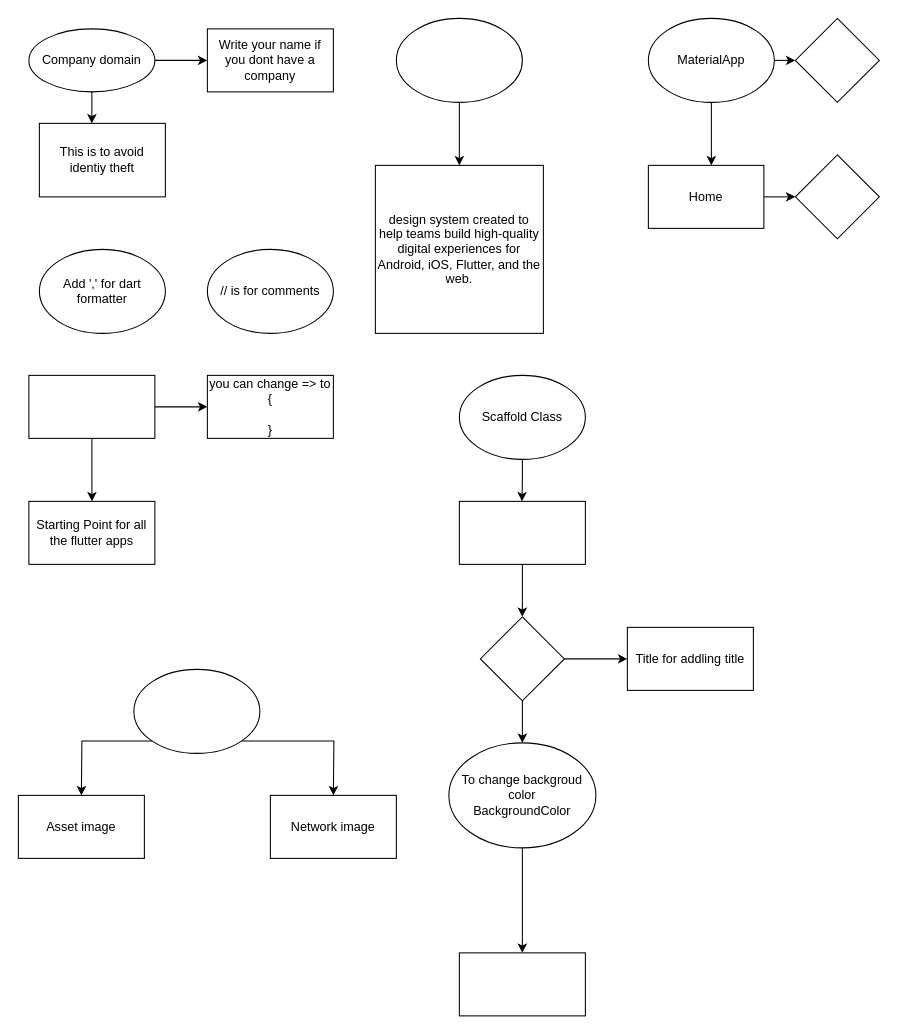
The diagram is 898 pixels wide and 1034 high, and some of its shapes have lost their labels. The centre of each missing label's shape, as x and y in pixels:
AppBar: [521,658]
Colors.red: [521,984]
First Widget: [836,59]
Image Class: [196,710]
It can have floating action button, AppBar, drawer: [521,532]
Material Design: [458,59]
Most important: [836,196]
void main(): [91,406]
